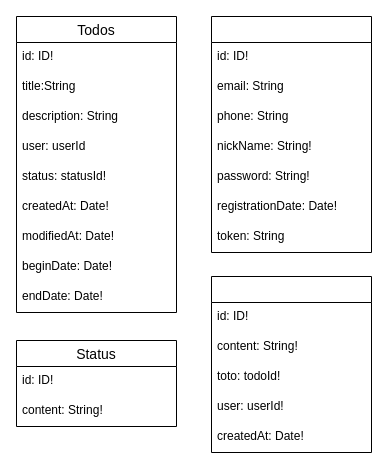
This 388x469 diagram has some shape labels left out. Here are the shapes that lost their labels. From the top down, the box of each, then its label:
(210, 16, 372, 252): User
(210, 276, 372, 452): Comment
